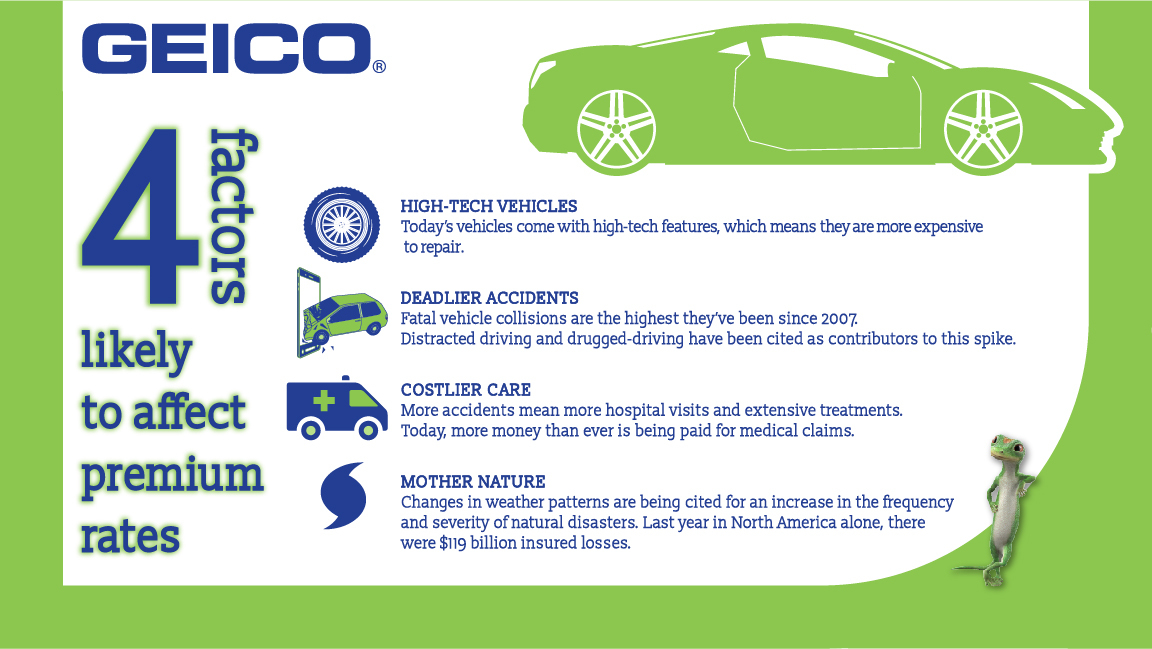geico: (78, 17, 394, 84)
